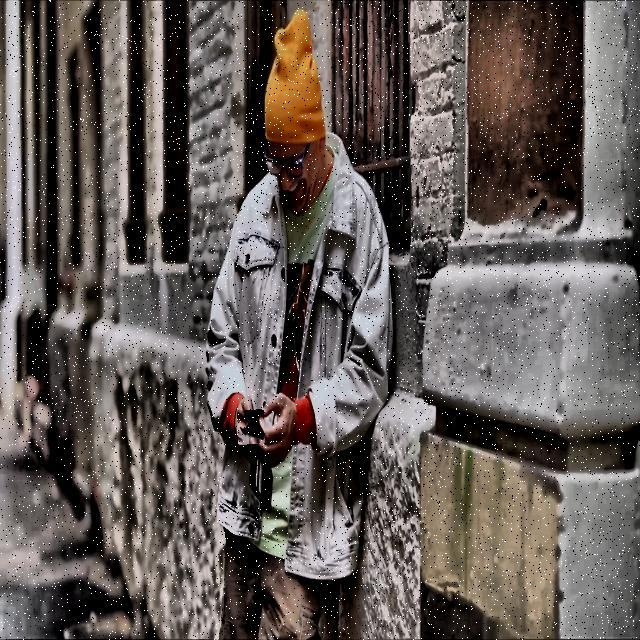Phone: (238, 410, 264, 444)
